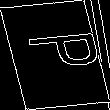P_E: (9, 33, 101, 77)
